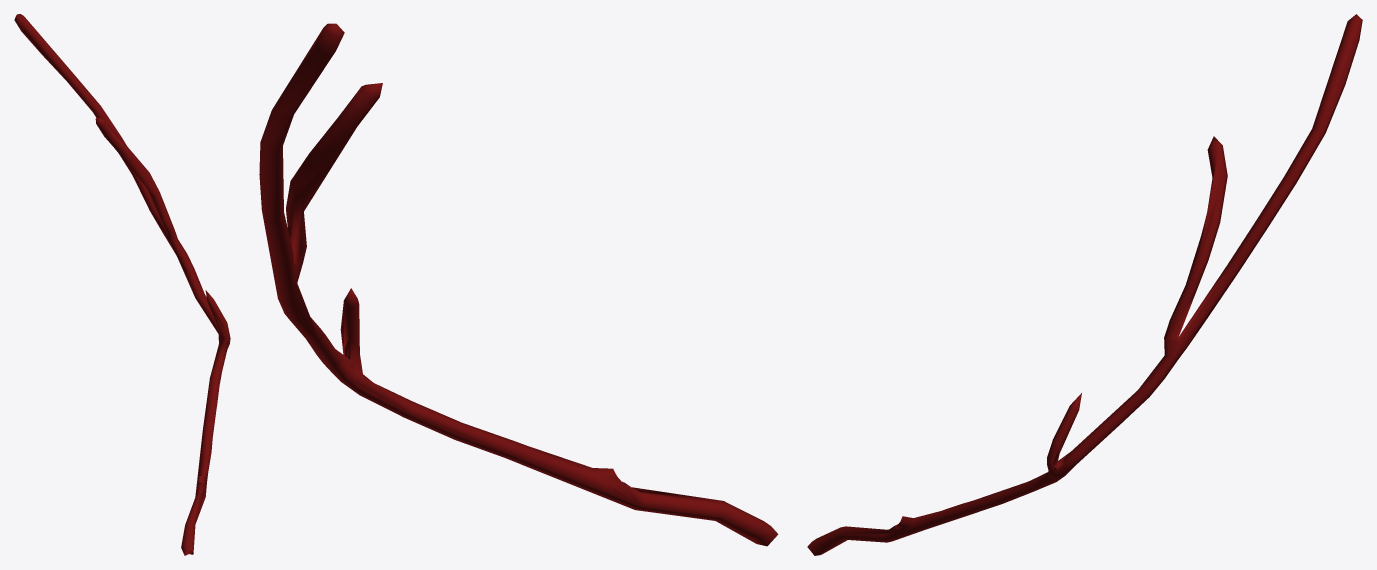
File: L arteria subscapularis.fbx
The picture shows the model from 3 angles, left to right: view 1: azimuth 30°, elevation 25°; view 2: azimuth 150°, elevation 25°; view 3: azimuth 270°, elevation 25°; orthographic projection. The views are drawn at different scales.
Visible parts, largest first — view 1: L arteria subscapularis, L arteria subscapularis low; view 2: L arteria subscapularis, L arteria subscapularis low; view 3: L arteria subscapularis, L arteria subscapularis low.
Boxes of the visible parts, x1,y1,x2,y2 form: L arteria subscapularis: [14, 14, 230, 555]; L arteria subscapularis low: [15, 16, 227, 553]; L arteria subscapularis: [259, 23, 778, 546]; L arteria subscapularis low: [262, 29, 756, 543]; L arteria subscapularis: [808, 14, 1362, 545]; L arteria subscapularis low: [807, 20, 1360, 555].
Bounding box in the file's own units: 6.59 × 18.37 × 16.67.
